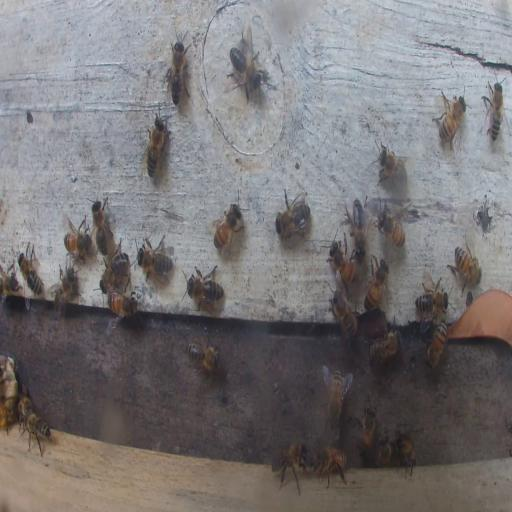bee: (227, 35, 266, 103), (433, 89, 467, 152), (183, 263, 224, 312), (164, 35, 192, 106), (270, 443, 307, 495), (323, 364, 351, 432), (275, 188, 311, 240), (212, 200, 244, 256), (137, 234, 173, 280), (145, 109, 168, 180), (450, 239, 482, 290), (313, 444, 347, 489), (376, 140, 408, 186), (330, 290, 358, 342), (50, 262, 78, 314), (329, 240, 359, 288), (483, 77, 505, 142), (21, 409, 52, 455), (415, 280, 449, 321), (377, 204, 407, 250), (18, 244, 44, 297), (101, 242, 129, 290), (64, 215, 92, 262), (188, 331, 220, 372), (364, 258, 388, 311), (368, 330, 401, 366), (425, 320, 448, 371), (394, 431, 418, 477), (92, 196, 110, 256), (357, 402, 376, 458), (350, 200, 368, 255), (108, 290, 139, 318), (0, 267, 21, 299), (375, 432, 393, 467), (1, 396, 13, 432), (18, 396, 32, 423)
